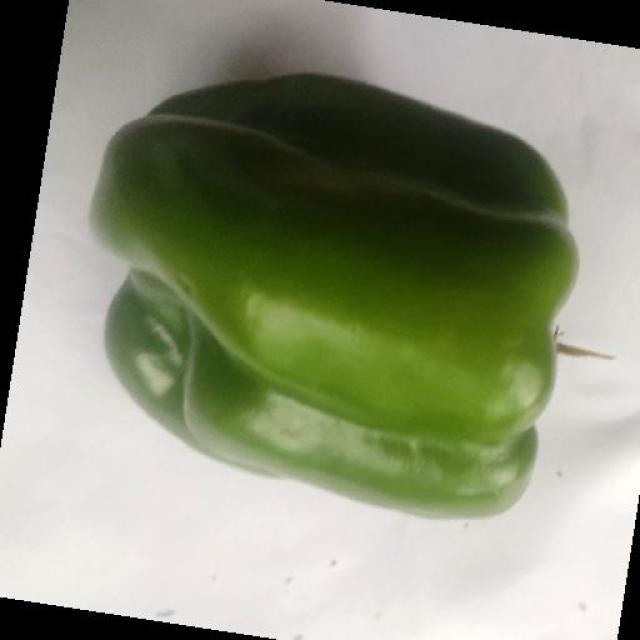Fresh_Capsicum: (93, 47, 590, 563)
